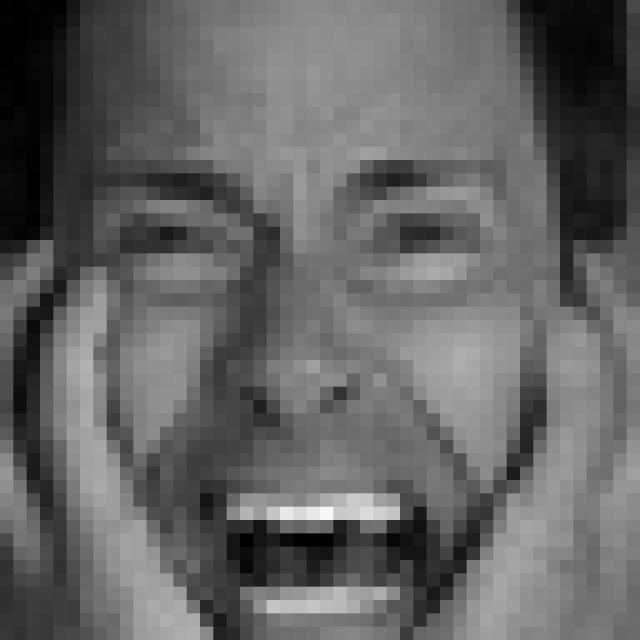fear: (68, 125, 539, 640)
